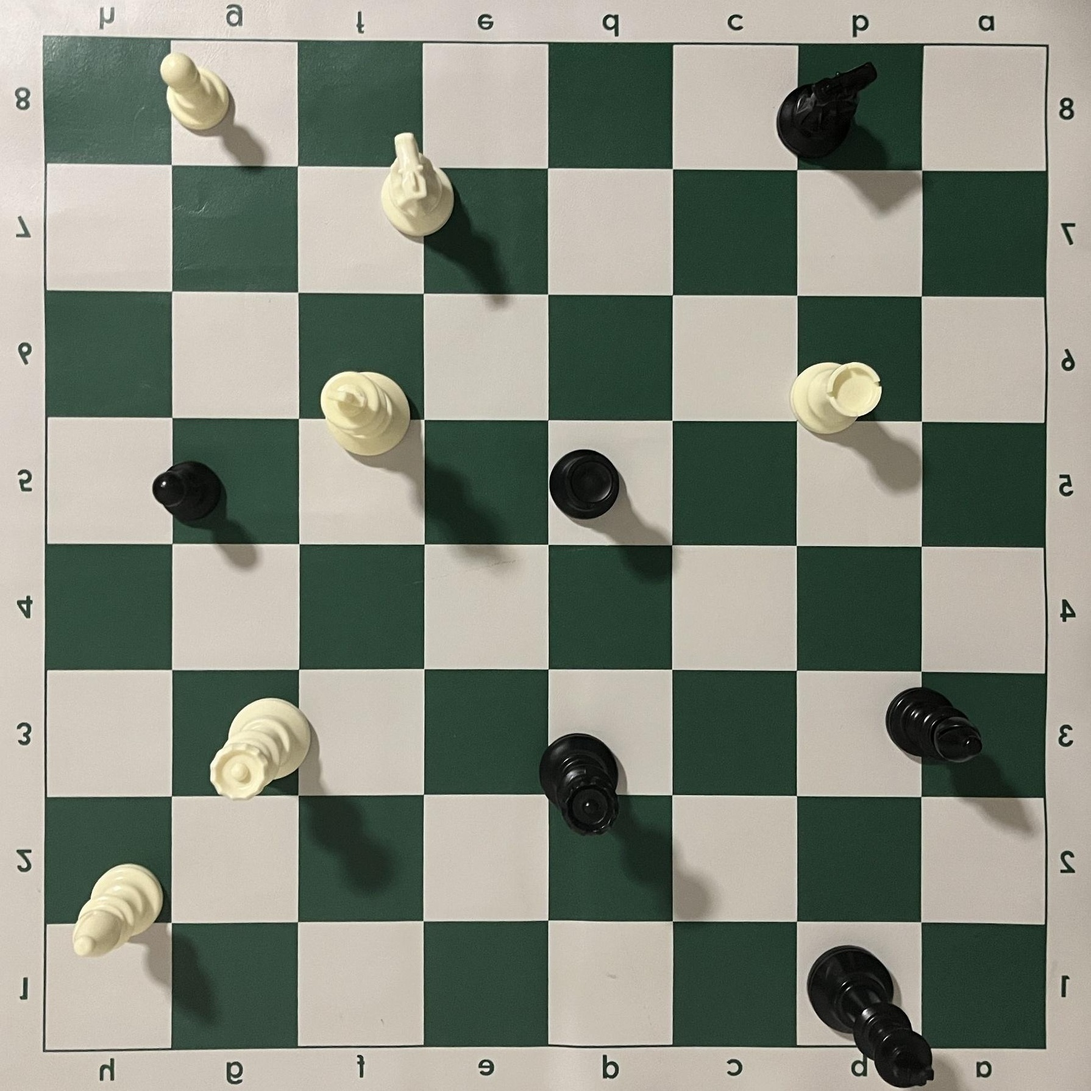black_bishop: (884, 686, 984, 764)
black_king: (805, 944, 936, 1089)
black_knight: (776, 61, 879, 160)
black_pawn: (152, 460, 223, 522)
black_queen: (538, 732, 620, 837)
black_rook: (549, 449, 621, 521)
white_bishop: (71, 863, 165, 961)
white_king: (320, 371, 411, 458)
white_knight: (380, 132, 455, 238)
white_pawn: (159, 51, 231, 132)
white_queen: (209, 697, 312, 801)
white_rook: (789, 361, 883, 436)
